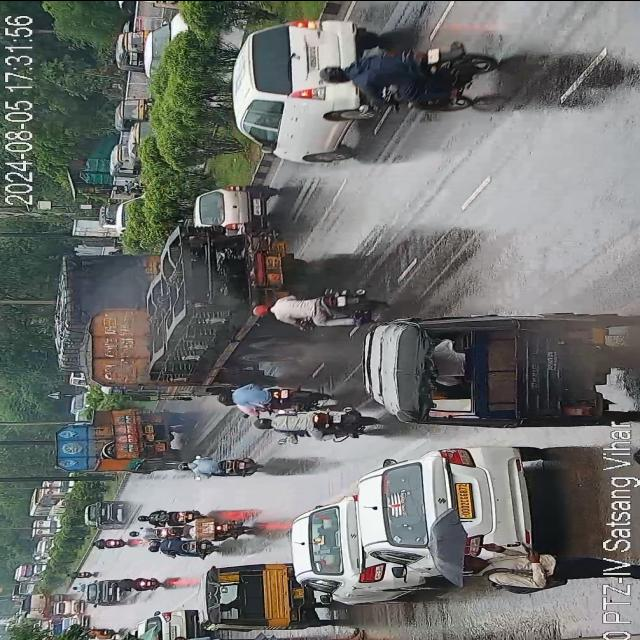2-wheelers: (323, 46, 500, 114), (252, 286, 376, 328), (215, 382, 323, 412), (261, 406, 355, 440), (172, 454, 258, 474), (178, 515, 251, 537), (142, 506, 204, 524), (154, 542, 213, 556), (103, 576, 164, 589)
auto: (368, 304, 626, 428), (206, 558, 292, 630), (118, 24, 154, 68), (114, 96, 156, 124)
car: (362, 442, 548, 572), (242, 17, 378, 149), (286, 492, 374, 602), (196, 190, 282, 228), (84, 496, 130, 527)
pedestrian: (458, 558, 640, 586), (19, 592, 75, 618), (171, 630, 257, 640)
truck: (82, 220, 317, 388), (54, 246, 152, 378), (62, 404, 181, 471)
